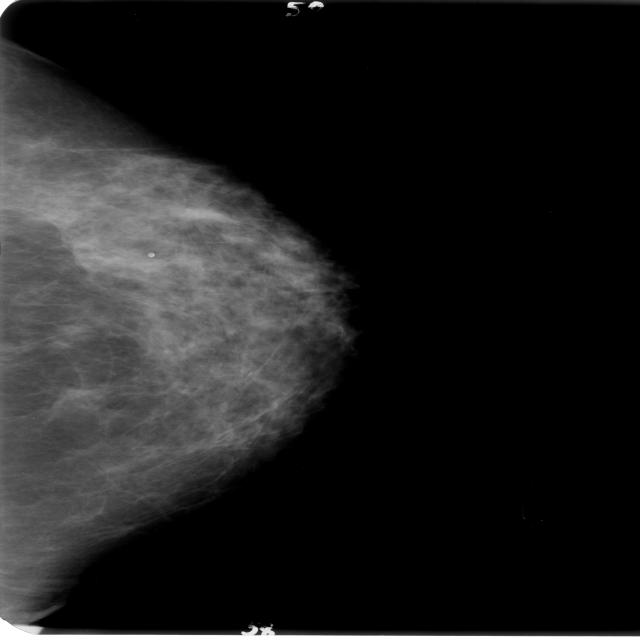normal: (0, 55, 372, 608)
